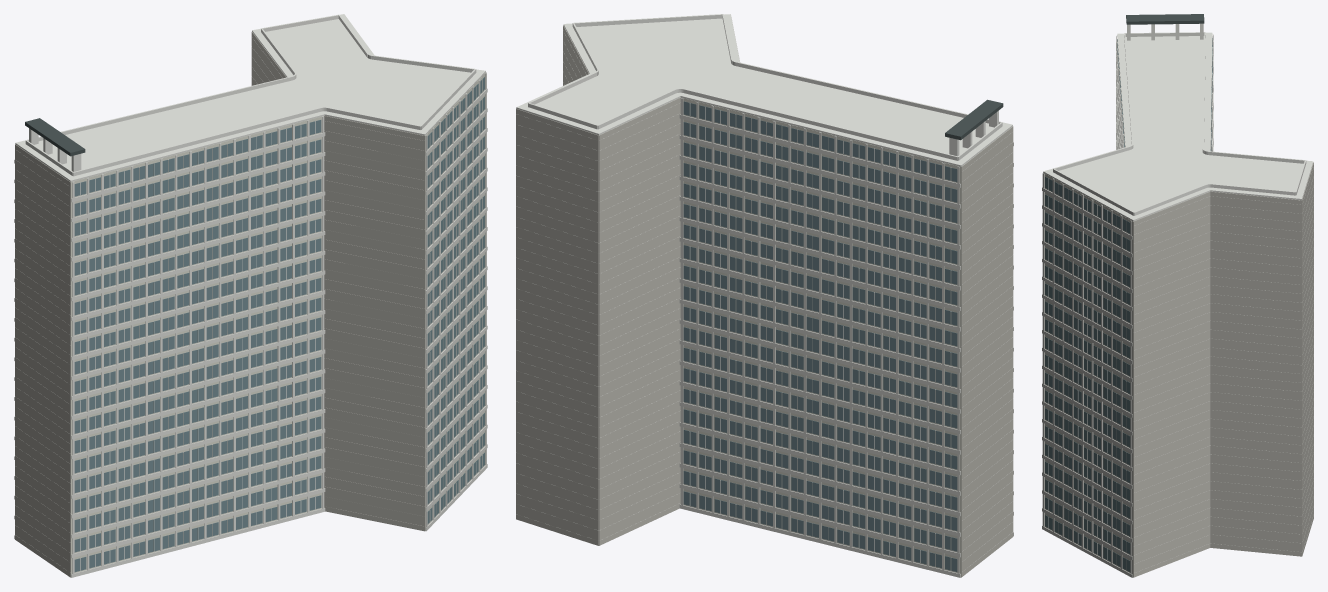
Rendered from bespoke-godeok-ipark-103.glb.
The picture shows the model from 3 angles, left to right: view 1: azimuth 30°, elevation 25°; view 2: azimuth 150°, elevation 25°; view 3: azimuth 270°, elevation 25°; orthographic projection. The views are drawn at different scales.
Parts seen in each view (by area): view 1: godeok-ipark103_editable_godeok-ipark103_broad_white_facade_, godeok-ipark103_editable_godeok-ipark103_turquoise_balcony_g, godeok-ipark103_editable_godeok-ipark103_warm_grey_blank_pan, godeok-ipark103_editable_godeok-ipark103_pale_cream_piers, godeok-ipark103_editable_godeok-ipark103_dark_openings_and_r; view 2: godeok-ipark103_editable_godeok-ipark103_warm_grey_blank_pan, godeok-ipark103_editable_godeok-ipark103_broad_white_facade_, godeok-ipark103_editable_godeok-ipark103_turquoise_balcony_g, godeok-ipark103_editable_godeok-ipark103_pale_cream_piers, godeok-ipark103_editable_godeok-ipark103_dark_openings_and_r; view 3: godeok-ipark103_editable_godeok-ipark103_warm_grey_blank_pan, godeok-ipark103_editable_godeok-ipark103_broad_white_facade_, godeok-ipark103_editable_godeok-ipark103_turquoise_balcony_g, godeok-ipark103_editable_godeok-ipark103_pale_cream_piers, godeok-ipark103_editable_godeok-ipark103_dark_openings_and_r.
Boxes of the visible parts, box(x1,y1,x2,y2) form: godeok-ipark103_editable_godeok-ipark103_broad_white_facade_: box(14, 14, 487, 577); godeok-ipark103_editable_godeok-ipark103_turquoise_balcony_g: box(74, 77, 484, 571); godeok-ipark103_editable_godeok-ipark103_warm_grey_blank_pan: box(15, 32, 424, 577); godeok-ipark103_editable_godeok-ipark103_pale_cream_piers: box(52, 32, 486, 577); godeok-ipark103_editable_godeok-ipark103_dark_openings_and_r: box(25, 118, 85, 156); godeok-ipark103_editable_godeok-ipark103_warm_grey_blank_pan: box(516, 17, 1013, 577); godeok-ipark103_editable_godeok-ipark103_broad_white_facade_: box(516, 14, 1013, 577); godeok-ipark103_editable_godeok-ipark103_turquoise_balcony_g: box(683, 101, 957, 571); godeok-ipark103_editable_godeok-ipark103_pale_cream_piers: box(565, 29, 1012, 577); godeok-ipark103_editable_godeok-ipark103_dark_openings_and_r: box(945, 99, 1003, 140); godeok-ipark103_editable_godeok-ipark103_warm_grey_blank_pan: box(1133, 162, 1313, 577); godeok-ipark103_editable_godeok-ipark103_broad_white_facade_: box(1042, 23, 1313, 577); godeok-ipark103_editable_godeok-ipark103_turquoise_balcony_g: box(1045, 38, 1212, 571); godeok-ipark103_editable_godeok-ipark103_pale_cream_piers: box(1043, 34, 1311, 577); godeok-ipark103_editable_godeok-ipark103_dark_openings_and_r: box(1126, 14, 1204, 24).
Bounding box in the file's own units: 62.23 × 58.3 × 37.98.
